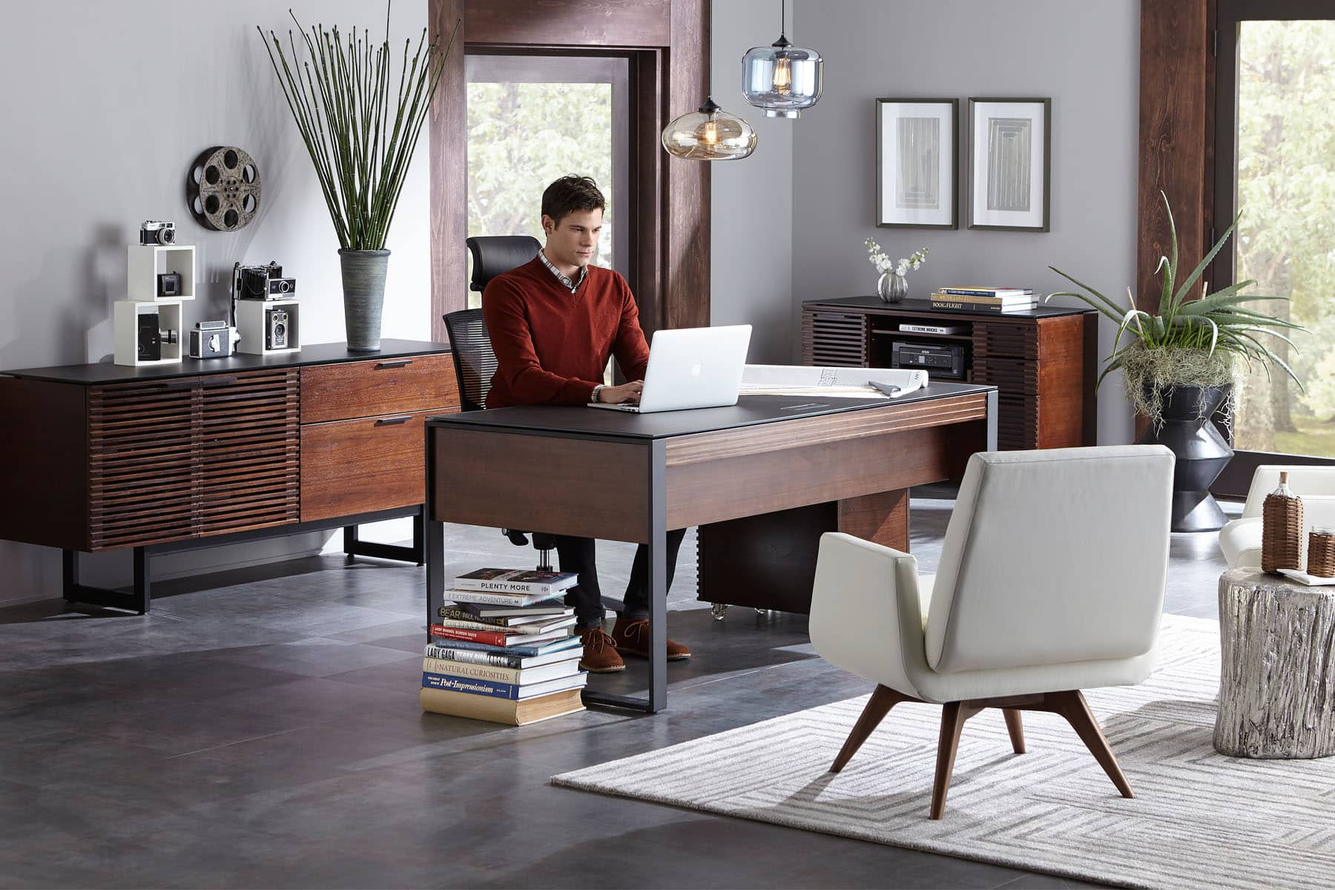not a gesture sign: (0, 556, 1080, 887)
